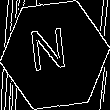N_S: (34, 28, 76, 82)
